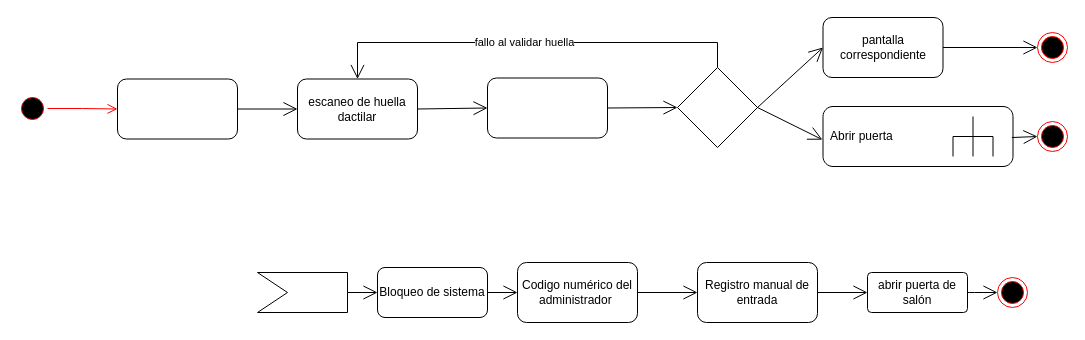
This 1085x340 diagram has some shape labels left out. The box of each missing label's shape, as (x1, y1, x2, y2) in pixels:
5° intento: (256, 272, 348, 312)
ingresar numero de empleado: (116, 78, 238, 139)
validar huella: (486, 77, 608, 138)
